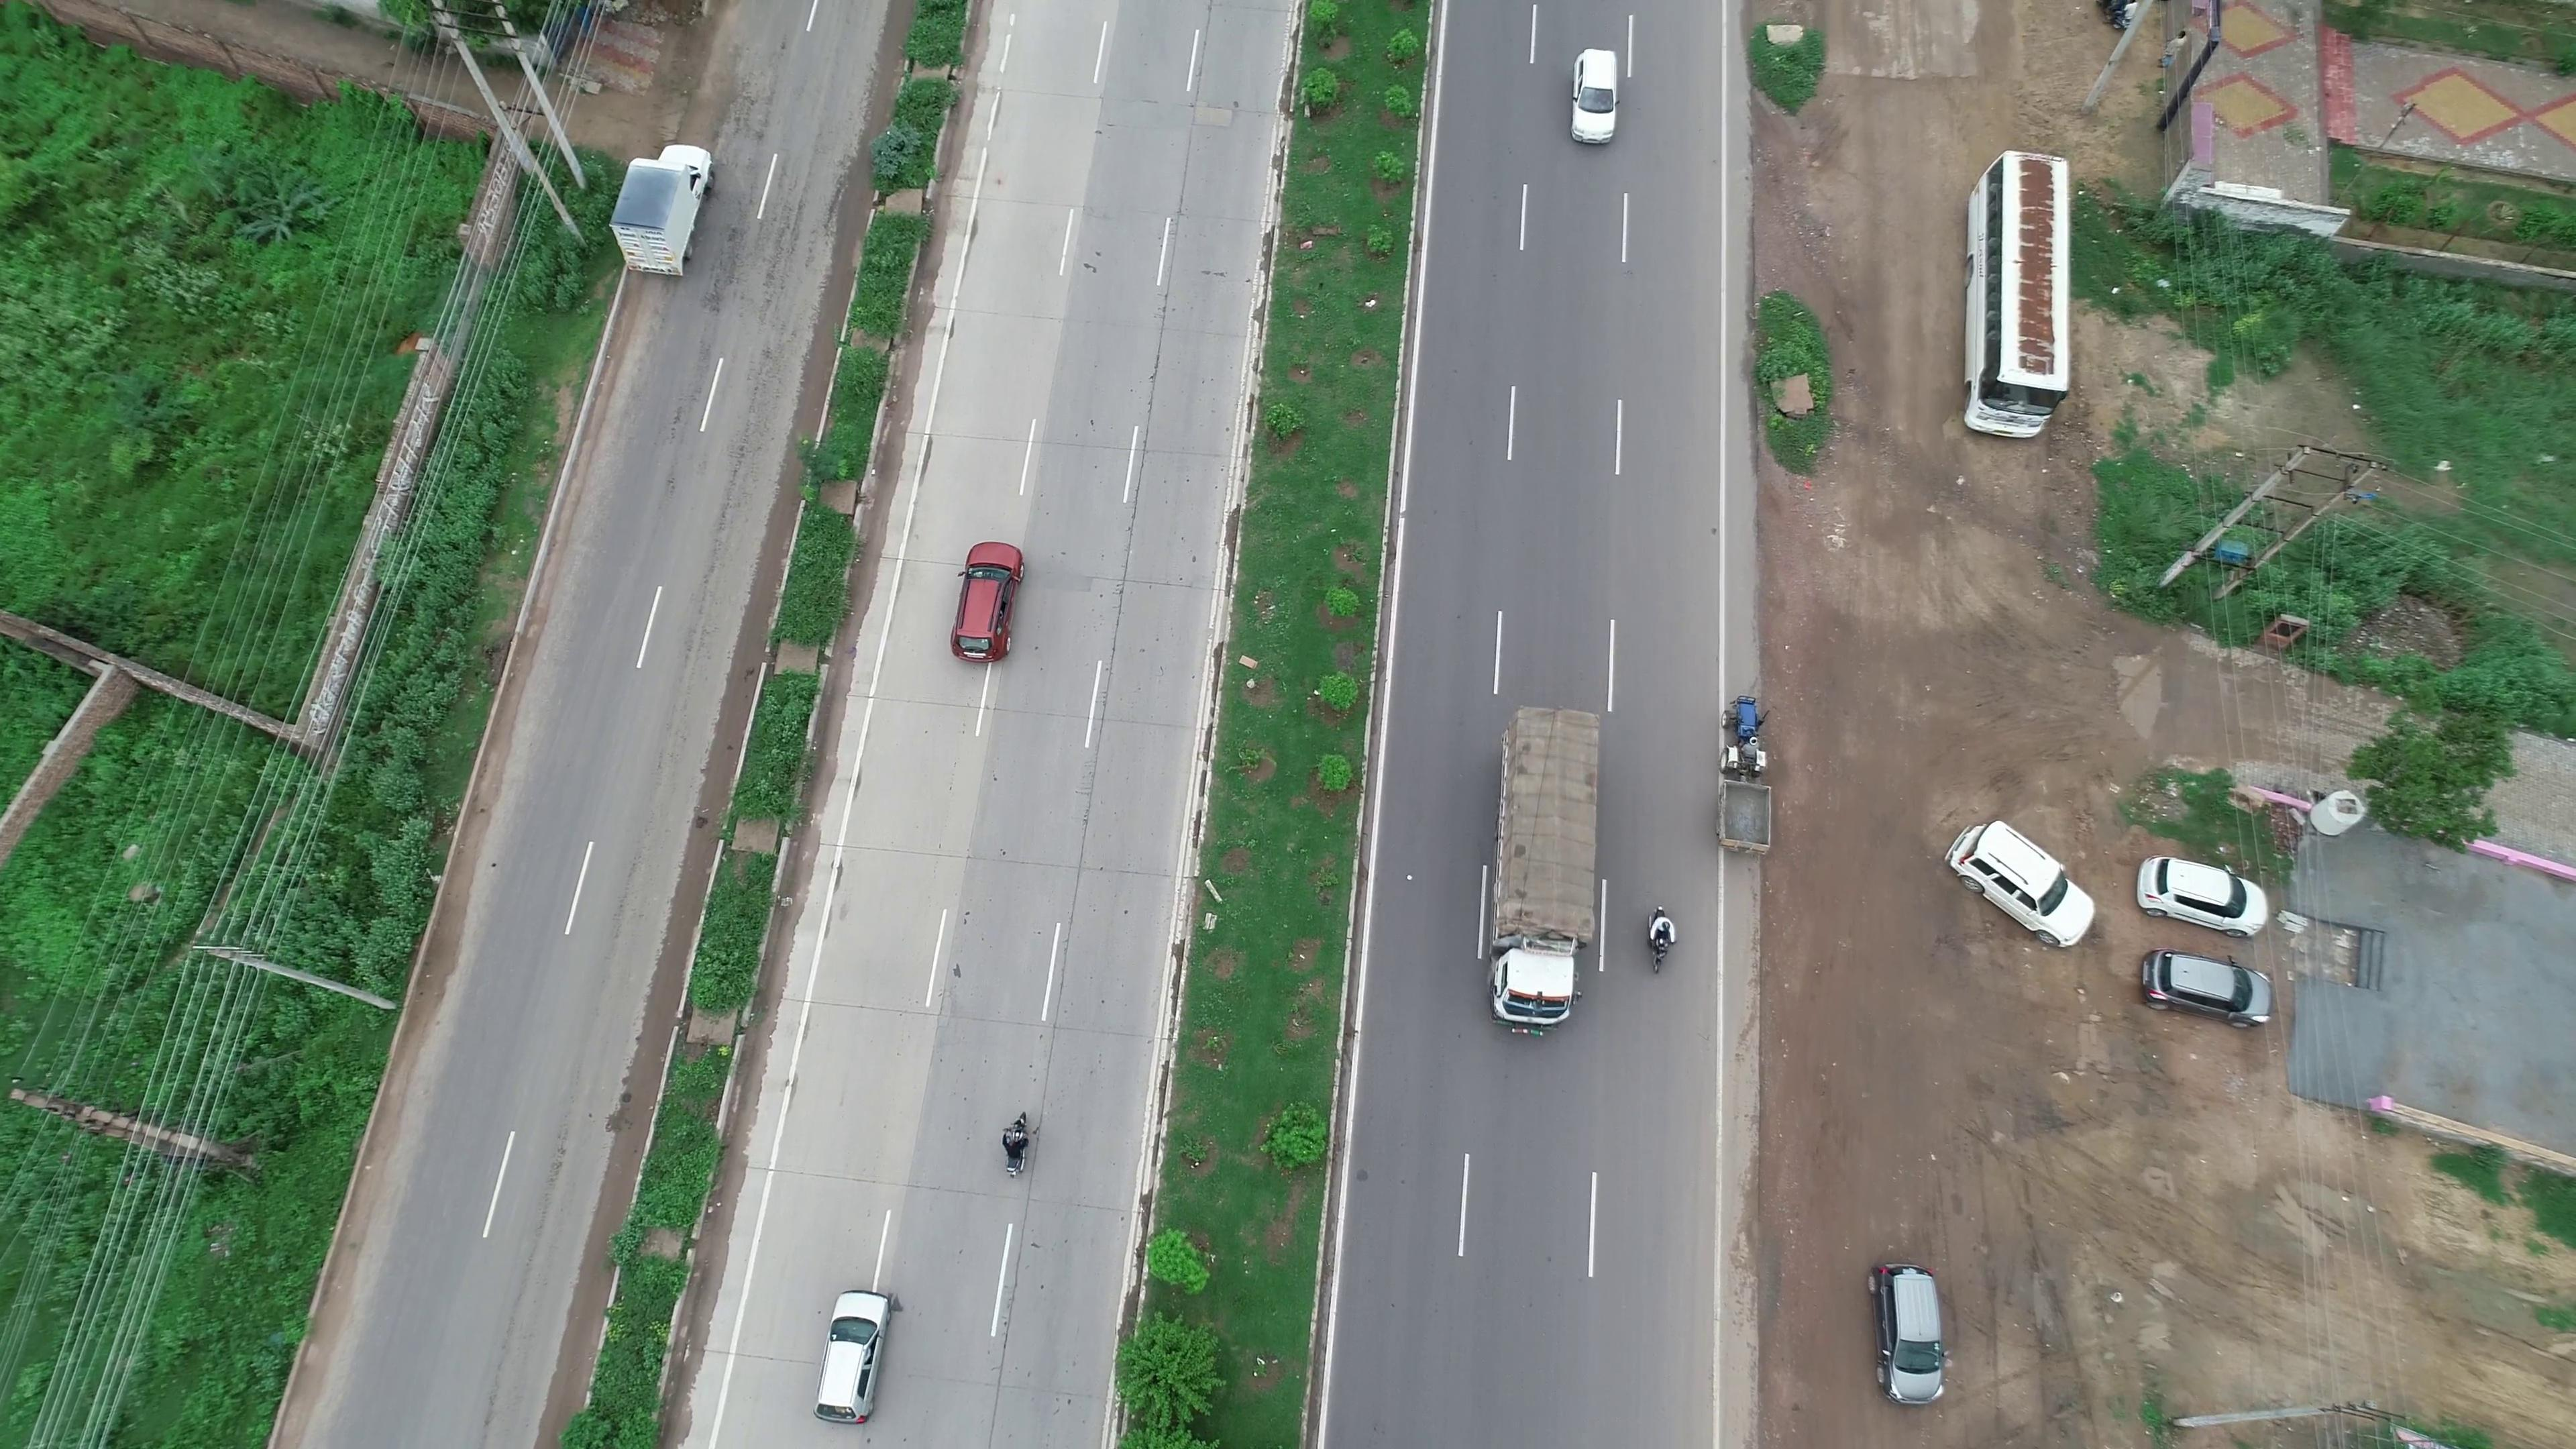Muddy_road: (1808, 425, 2157, 791), (1785, 906, 2144, 1233), (1775, 7, 1960, 396)
